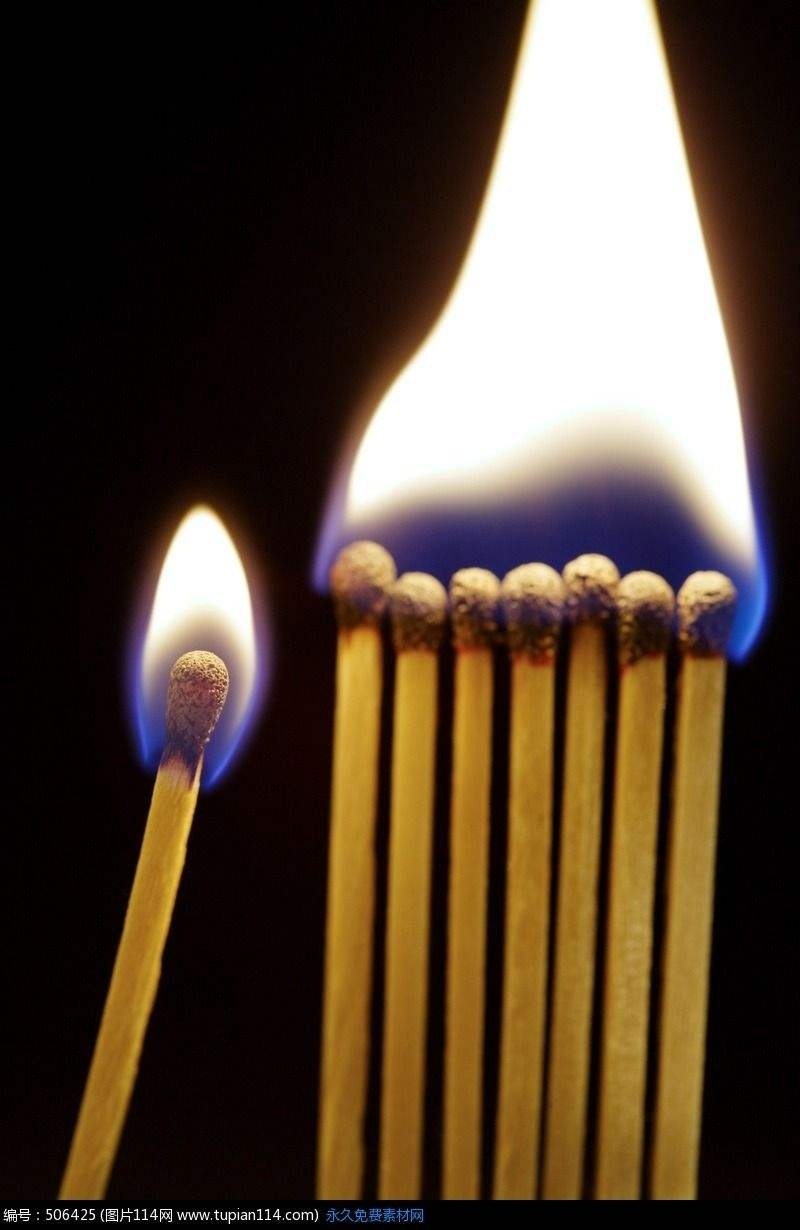fire: (351, 0, 766, 628), (135, 494, 258, 774)
